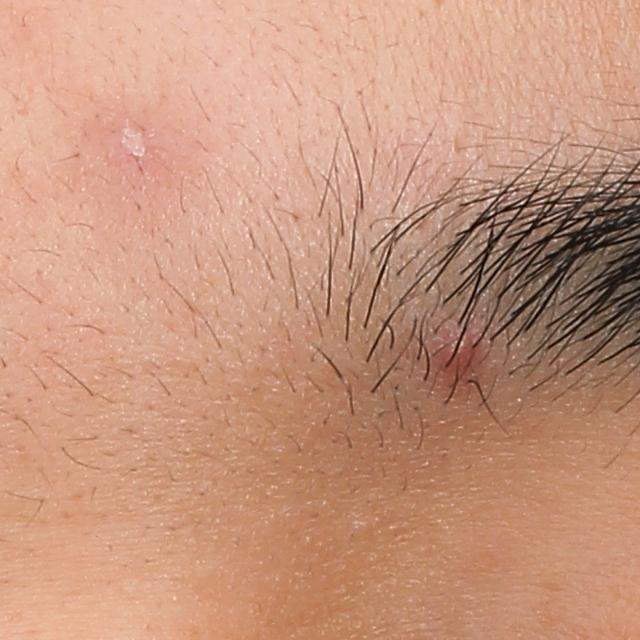papule: (426, 314, 475, 392)
